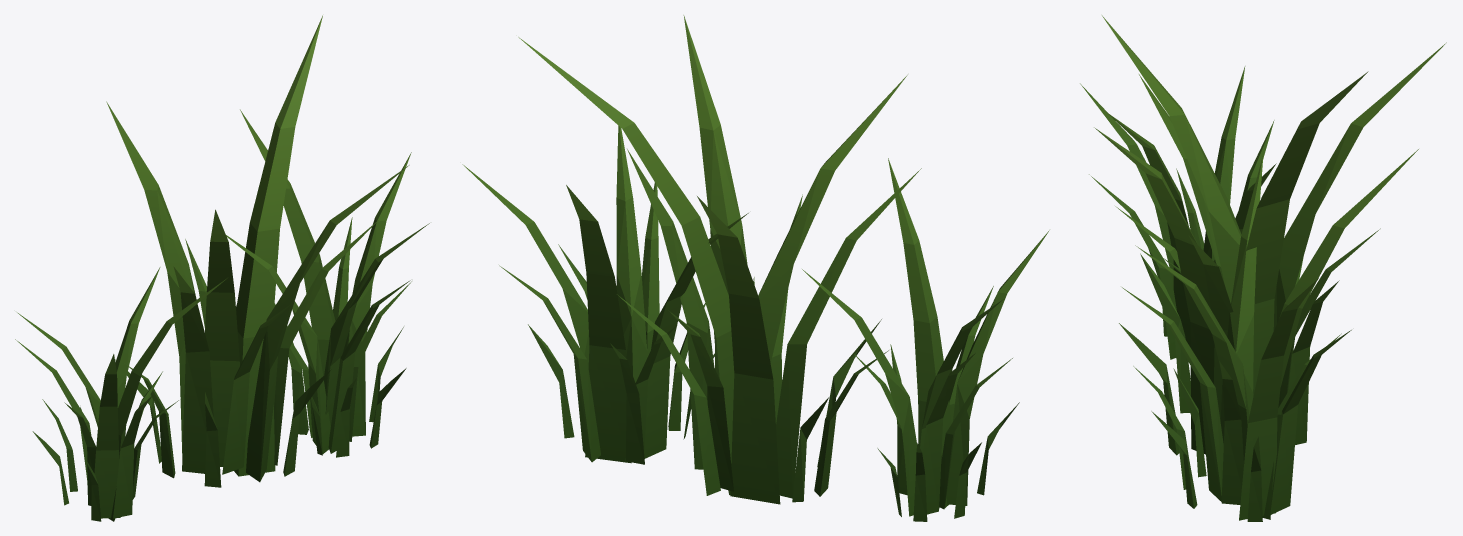
File: Grass_1.fbx
3 views of the same model, side by side, from view 1: azimuth 30°, elevation 25°; view 2: azimuth 150°, elevation 25°; view 3: azimuth 270°, elevation 25° (orthographic). The views are drawn at different scales.
Parts seen in each view (by area): view 1: Grass_1; view 2: Grass_1; view 3: Grass_1.
Boxes of the visible parts, x1,y1,x2,y2 form: Grass_1: (15, 15, 429, 521); Grass_1: (462, 15, 1049, 521); Grass_1: (1080, 15, 1446, 521).
Size of the model in its own units: 104 by 89.16 by 64.58.
